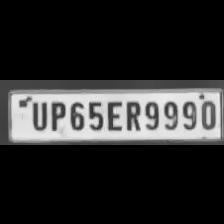0: (198, 96, 216, 128)
5: (86, 97, 104, 130)
6: (67, 98, 85, 130)
9: (161, 96, 179, 130), (179, 96, 197, 130), (142, 97, 160, 130)
E: (104, 97, 122, 130)
P: (47, 98, 65, 130)
R: (122, 97, 142, 130)
U: (27, 98, 47, 130)
